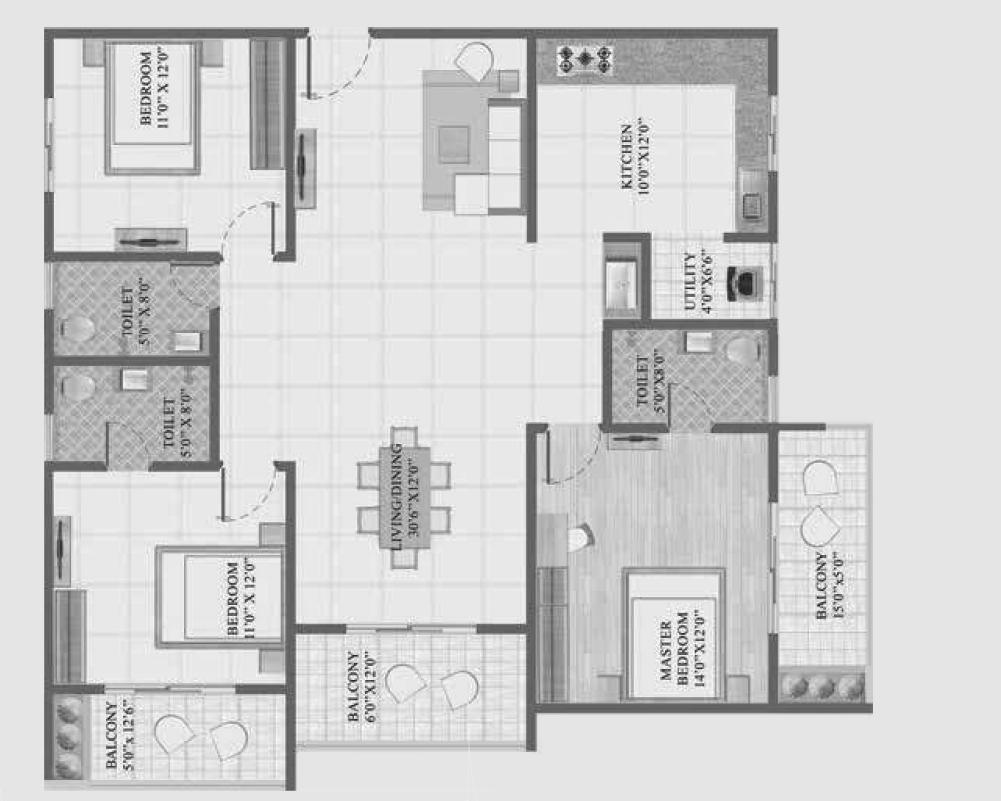Balcony: (297, 628, 533, 750), (776, 427, 871, 712), (49, 691, 293, 786)
Bed: (622, 569, 723, 703), (106, 39, 196, 169), (160, 552, 286, 644)
Bedroom: (533, 426, 774, 706), (48, 31, 291, 253), (52, 464, 289, 689)
Dining Room: (283, 263, 528, 622)
Dining table: (346, 404, 470, 584)
Kitchen: (534, 38, 771, 238)
Living Room: (287, 33, 532, 266)
Sofa: (488, 102, 528, 214), (453, 176, 526, 216)
Wardrobe: (249, 37, 288, 172), (536, 564, 570, 704), (51, 591, 84, 687)
commode: (60, 373, 99, 401), (727, 339, 759, 362), (63, 317, 93, 337)
door: (306, 37, 373, 101), (216, 462, 277, 521), (219, 199, 273, 262), (546, 426, 601, 483), (344, 619, 481, 639), (169, 263, 224, 309), (103, 682, 236, 701), (106, 420, 152, 470), (670, 382, 716, 428)
kitchen-slab: (530, 34, 766, 79), (730, 38, 770, 232)
sink: (732, 174, 773, 229), (606, 256, 640, 308), (681, 330, 718, 352), (173, 328, 201, 351), (119, 369, 149, 390)
stove: (554, 48, 614, 81)
toilet: (611, 324, 772, 426), (50, 363, 213, 462), (49, 261, 212, 359)
tv: (292, 129, 314, 208), (52, 517, 72, 583), (119, 231, 183, 249), (608, 430, 664, 447)
utility: (657, 239, 776, 320)
washing-machine: (726, 262, 769, 306)
